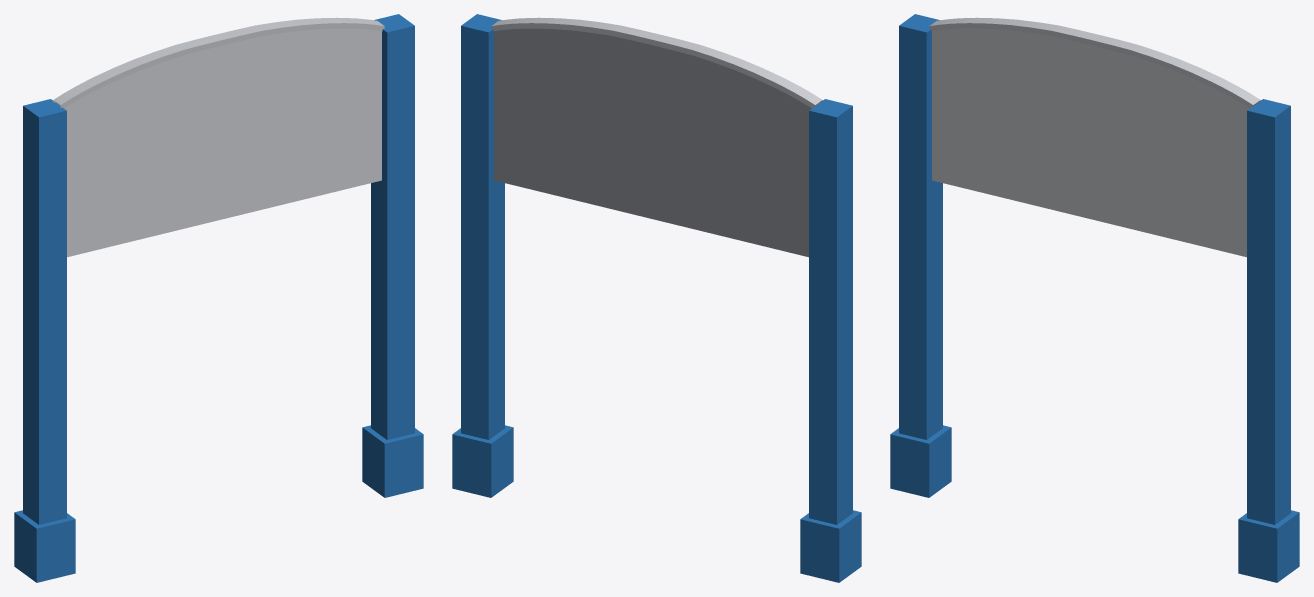
Rendered from park-sign.glb.
3 renders of one model, left to right at view 1: azimuth 30°, elevation 25°; view 2: azimuth 150°, elevation 25°; view 3: azimuth 330°, elevation 25°, orthographic.
Parts seen in each view (by area): view 1: park-sign; view 2: park-sign; view 3: park-sign.
Boxes of the visible parts, x1=… form: park-sign: x1=14, y1=14, x2=423, y2=582; park-sign: x1=452, y1=14, x2=861, y2=582; park-sign: x1=890, y1=14, x2=1299, y2=582.
Size of the model in its own units: 2.09 by 2.53 by 0.21.
